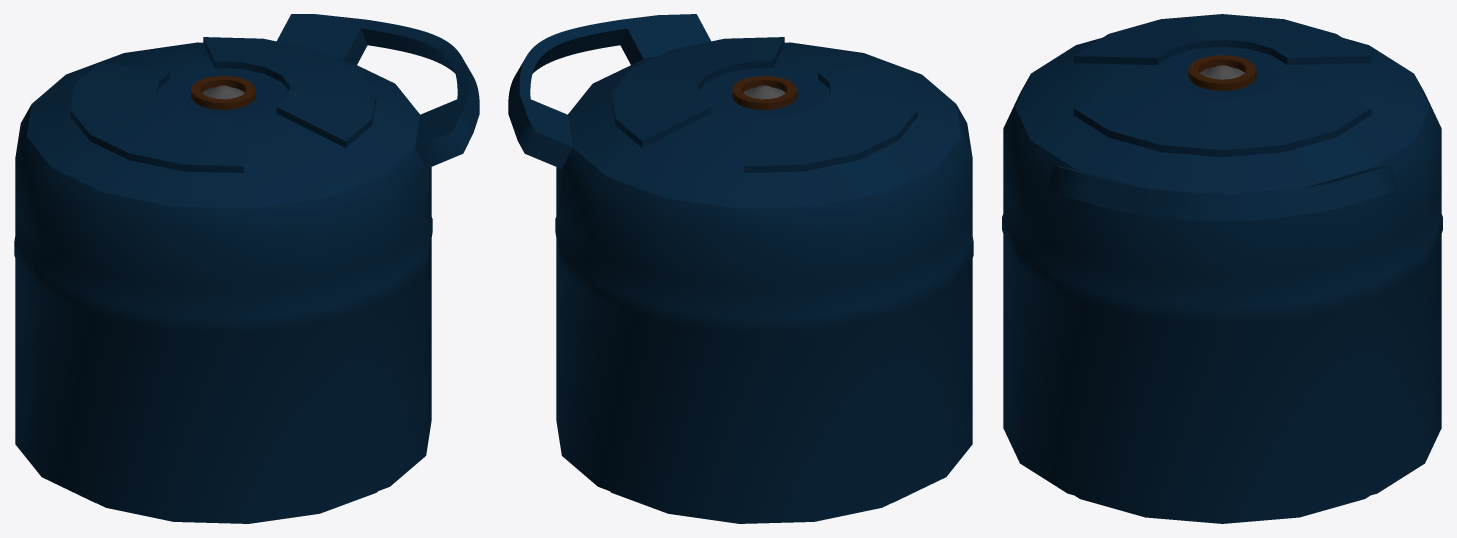
The model's file is gas7.glb.
3 views of the same model, side by side, from view 1: azimuth 30°, elevation 25°; view 2: azimuth 150°, elevation 25°; view 3: azimuth 270°, elevation 25° (orthographic). The views are drawn at different scales.
Parts seen in each view (by area): view 1: Gas7; view 2: Gas7; view 3: Gas7.
Boxes of the visible parts, bbox=[...] form: Gas7: bbox=[14, 14, 479, 523]; Gas7: bbox=[508, 14, 973, 523]; Gas7: bbox=[1002, 14, 1442, 523].
Bounding box in the file's own units: 1.96 × 1.59 × 1.71.
